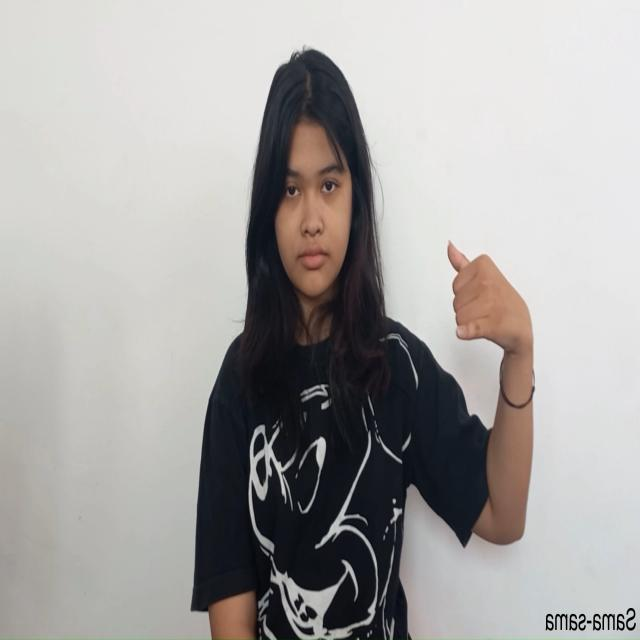Sama-sama -BISINDO-: (445, 233, 537, 354)
